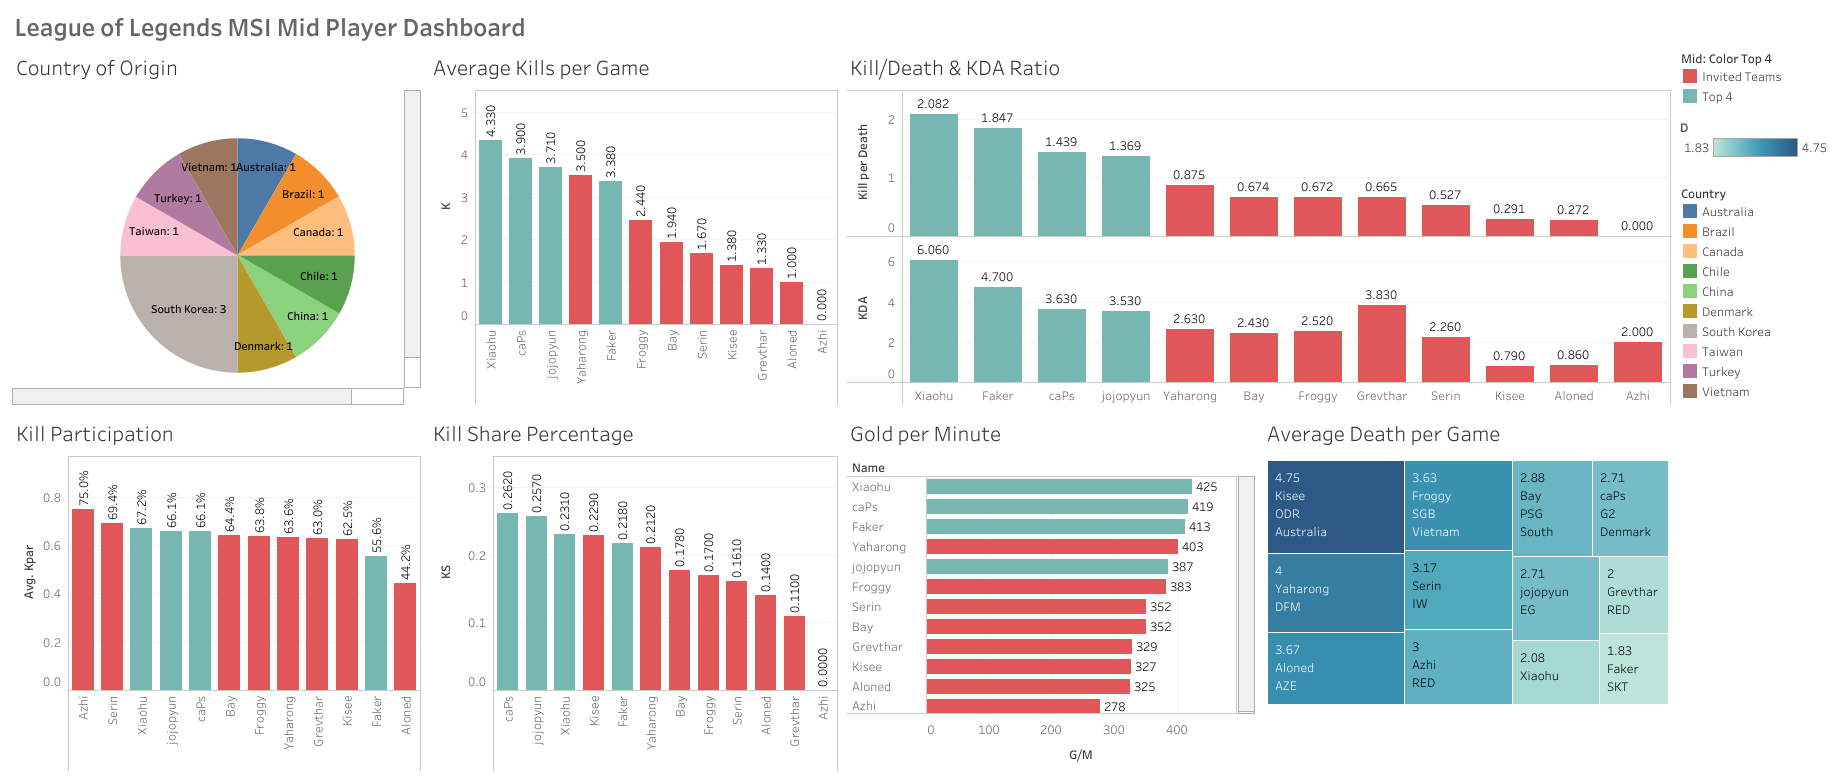

The page's visual inventory and layout, read from the dashboard file:
{"tool":"tableau","page":{"name":"MSI Mid","canvas":[1000,1000],"units":"permille","ordinal":0},"visuals":[{"type":"text","box":[6.3,11.1,987.4,44.5]},{"type":"worksheet","title":"Mid: Player Countries","mark":"Pie","box":[6.3,55.7,215.3,466.6]},{"type":"worksheet","title":"Mid: Kills","mark":"Automatic","rows":["K"],"cols":["Role","Name"],"box":[221.6,55.7,215.4,466.6]},{"type":"worksheet","title":"Mid: Kill per Death","mark":"Automatic","rows":["Calculation_2634887302144946177","KDA"],"cols":["Role","Name"],"box":[437,55.7,430.8,466.6]},{"type":"legend","title":"Mid: Kills","param":"[federated.0yose4p0djmgcf1cmg0zx1x8ghpd].[none:Calculation_2634887302143692800:n","box":[867.8,55.7,125.9,91.9]},{"type":"legend","title":"Mid: Avg Death","param":"[federated.0yose4p0djmgcf1cmg0zx1x8ghpd].[sum:D:qk]","box":[867.8,147.6,125.9,90.5]},{"type":"legend","title":"Mid: Player Countries","param":"[federated.0yose4p0djmgcf1cmg0zx1x8ghpd].[none:Country:nk]","box":[867.8,238.1,125.9,314.8]},{"type":"worksheet","title":"Mid: Kill Participation","mark":"Automatic","rows":["KPAR"],"cols":["Role","Name"],"box":[6.3,522.2,215.3,466.6]},{"type":"worksheet","title":"Mid: Kill Share","mark":"Automatic","rows":["KS"],"cols":["Role","Name"],"box":[221.6,522.2,215.4,466.6]},{"type":"worksheet","title":"Mid: Avg GPM","mark":"Automatic","rows":["Role","Name"],"cols":["G/M"],"box":[437,522.2,215.4,466.6]},{"type":"worksheet","title":"Mid: Avg Death","mark":"Automatic","box":[652.4,522.2,215.4,466.6]}]}

Visuals, with their boxes on the dashboard's canvas, which has no fixed pixel size, in thousandths of its width and height (x1, y1, x2, y2). These are canvas units, not pixel positions in the 1843x782 screenshot, which may show the page scaled, cropped or inside an application window:
text: [left=6, top=11, right=994, bottom=56]
"Mid: Player Countries" worksheet (Pie marks): [left=6, top=56, right=222, bottom=522]
"Mid: Kills" worksheet: [left=222, top=56, right=437, bottom=522]
"Mid: Kill per Death" worksheet: [left=437, top=56, right=868, bottom=522]
"Mid: Kills" legend: [left=868, top=56, right=994, bottom=148]
"Mid: Avg Death" legend: [left=868, top=148, right=994, bottom=238]
"Mid: Player Countries" legend: [left=868, top=238, right=994, bottom=553]
"Mid: Kill Participation" worksheet: [left=6, top=522, right=222, bottom=989]
"Mid: Kill Share" worksheet: [left=222, top=522, right=437, bottom=989]
"Mid: Avg GPM" worksheet: [left=437, top=522, right=652, bottom=989]
"Mid: Avg Death" worksheet: [left=652, top=522, right=868, bottom=989]
